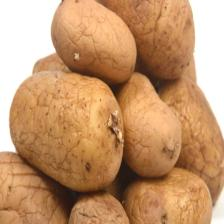Damaged potato: (111, 62, 180, 173), (121, 154, 214, 224), (0, 145, 73, 224)
Sprouted potato: (10, 68, 128, 194), (54, 0, 138, 83)
